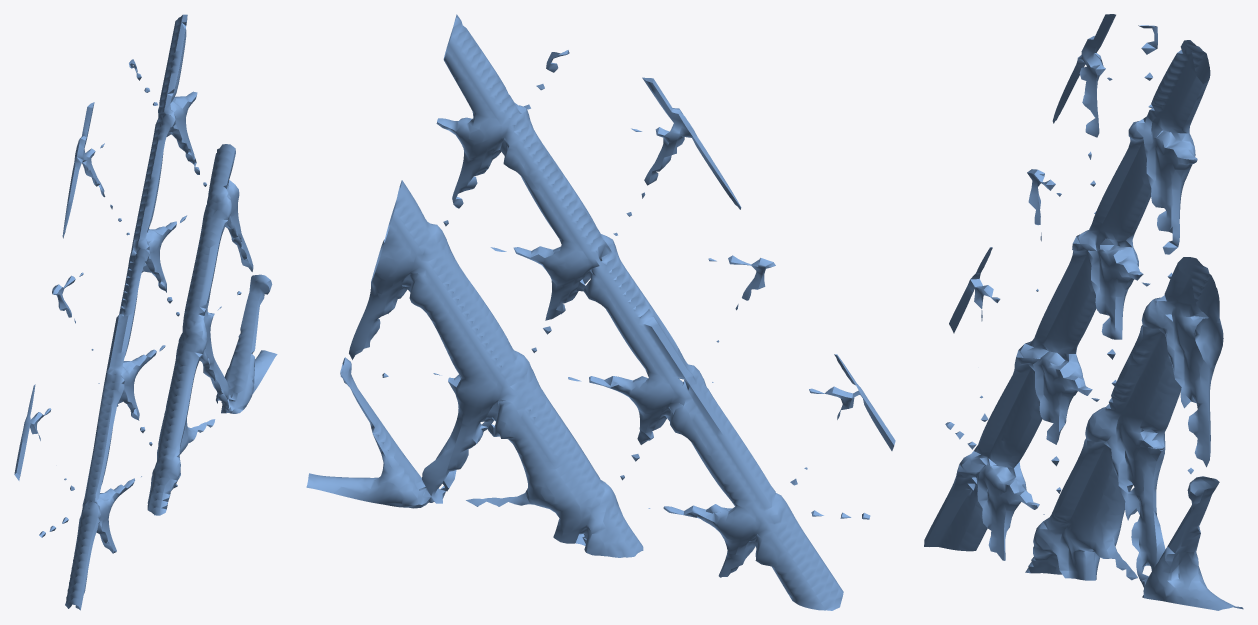
The model's file is detail.classical.dcfs.-.glb.
3 views of the same model, side by side, from view 1: azimuth 30°, elevation 25°; view 2: azimuth 150°, elevation 25°; view 3: azimuth 270°, elevation 25° (orthographic). The views are drawn at different scales.
Visible parts, largest first — view 1: detail.classical.dcfs.-; view 2: detail.classical.dcfs.-; view 3: detail.classical.dcfs.-.
Part boxes in pixels (box(x1,y1,x2,y2)): detail.classical.dcfs.-: box(14, 14, 277, 610); detail.classical.dcfs.-: box(306, 14, 895, 610); detail.classical.dcfs.-: box(924, 14, 1243, 610).
Size of the model in its own units: 1.55 by 1.97 by 0.8864.
